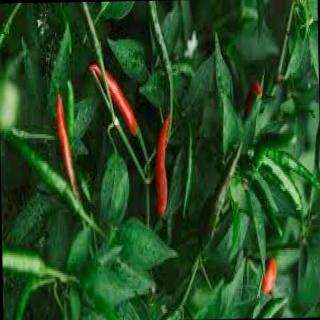Cabai Hijau: (2, 135, 84, 214), (147, 1, 170, 77), (182, 126, 194, 213)
Cabai Merah: (91, 61, 139, 134), (55, 94, 79, 200), (155, 113, 170, 216), (262, 256, 278, 294)
